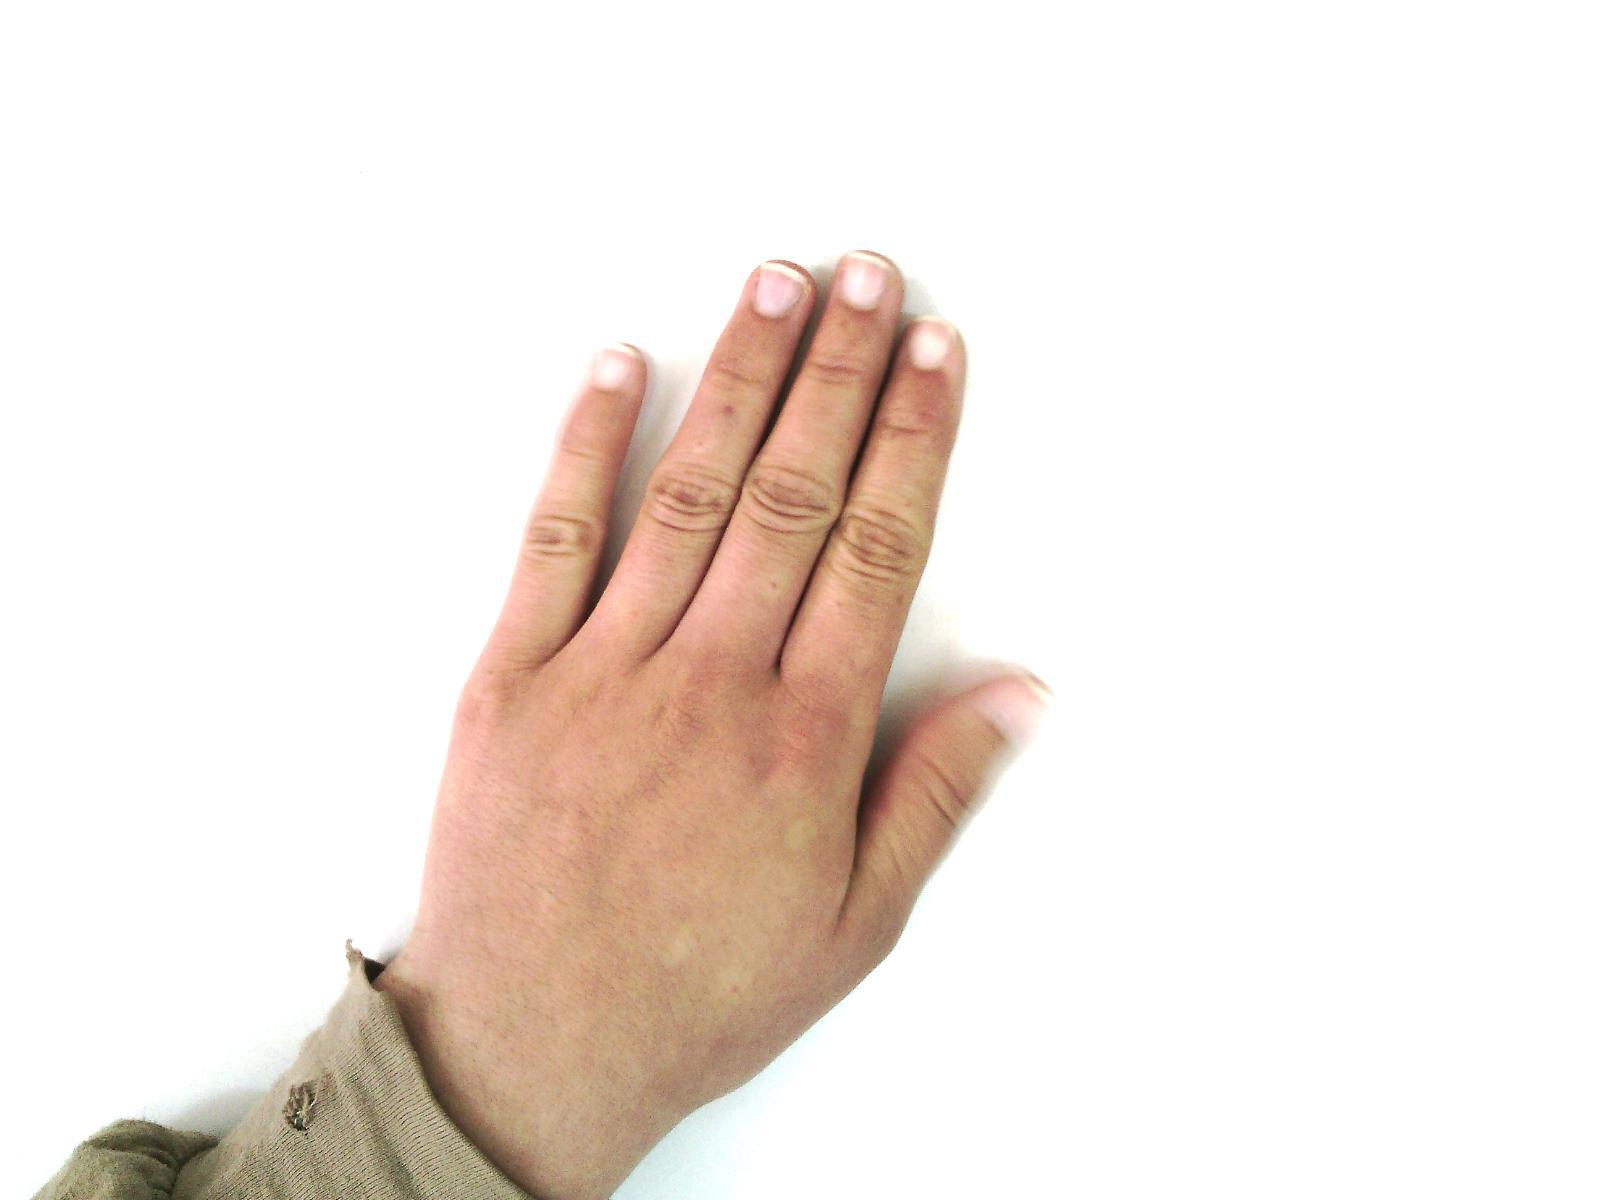hand: (411, 237, 1048, 1109)
